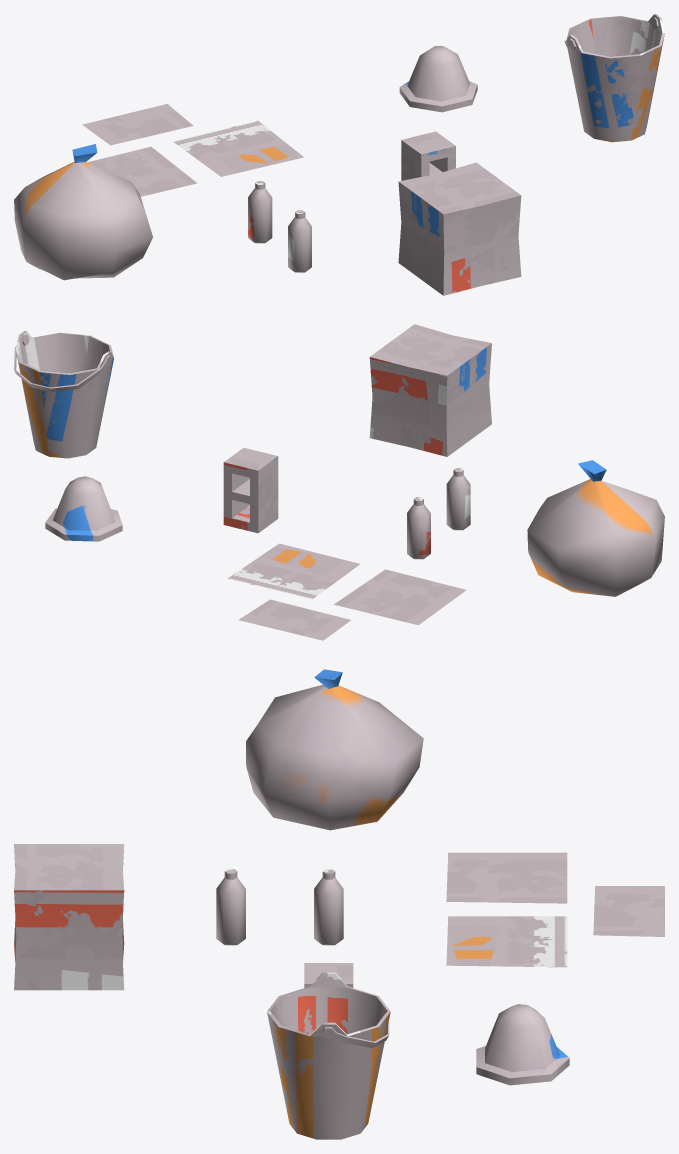
The model's file is garbages.fbx.
3 renders of one model, top to bottom at view 1: azimuth 30°, elevation 25°; view 2: azimuth 150°, elevation 25°; view 3: azimuth 270°, elevation 25°, orthographic. The views are drawn at different scales.
Parts seen in each view (by area): view 1: Cardboard_LOD0, Garbage_bag_LOD0, Bucket_LOD0, Cardboard_board_1, Conc_LOD0, Cardboard_board_2, Cardboard_board_3, Brick_LOD0, Bottle_2_LOD0, Bottle_1_LOD0; view 2: Cardboard_LOD0, Garbage_bag_LOD0, Bucket_LOD0, Brick_LOD0, Cardboard_board_2, Cardboard_board_1, Conc_LOD0, Cardboard_board_3, Bottle_1_LOD0, Bottle_2_LOD0; view 3: Garbage_bag_LOD0, Cardboard_LOD0, Bucket_LOD0, Cardboard_board_2, Cardboard_board_1, Conc_LOD0, Cardboard_board_3, Bottle_2_LOD0, Bottle_1_LOD0, Brick_LOD0.
Part boxes in pixels (left/top/right/bottom): Cardboard_LOD0: left=398, top=162, right=521, bottom=295; Garbage_bag_LOD0: left=14, top=144, right=152, bottom=280; Bucket_LOD0: left=564, top=14, right=664, bottom=142; Cardboard_board_1: left=173, top=120, right=303, bottom=176; Conc_LOD0: left=399, top=46, right=477, bottom=112; Cardboard_board_2: left=87, top=146, right=197, bottom=196; Cardboard_board_3: left=82, top=104, right=193, bottom=145; Brick_LOD0: left=401, top=131, right=455, bottom=180; Bottle_2_LOD0: left=248, top=181, right=272, bottom=243; Bottle_1_LOD0: left=288, top=210, right=311, bottom=272; Cardboard_LOD0: left=369, top=324, right=491, bottom=456; Garbage_bag_LOD0: left=527, top=460, right=664, bottom=596; Bucket_LOD0: left=14, top=331, right=113, bottom=458; Brick_LOD0: left=223, top=447, right=278, bottom=533; Cardboard_board_2: left=334, top=569, right=466, bottom=625; Cardboard_board_1: left=228, top=543, right=360, bottom=599; Conc_LOD0: left=45, top=476, right=122, bottom=541; Cardboard_board_3: left=239, top=599, right=350, bottom=640; Bottle_1_LOD0: left=446, top=468, right=470, bottom=530; Bottle_2_LOD0: left=407, top=497, right=430, bottom=559; Garbage_bag_LOD0: left=246, top=669, right=423, bottom=830; Cardboard_LOD0: left=14, top=844, right=124, bottom=990; Bucket_LOD0: left=267, top=972, right=390, bottom=1139; Cardboard_board_2: left=446, top=852, right=567, bottom=903; Cardboard_board_1: left=446, top=916, right=567, bottom=967; Conc_LOD0: left=476, top=1004, right=569, bottom=1085; Cardboard_board_3: left=593, top=886, right=664, bottom=936; Bottle_2_LOD0: left=314, top=869, right=343, bottom=945; Bottle_1_LOD0: left=216, top=869, right=245, bottom=945; Brick_LOD0: left=304, top=963, right=353, bottom=987.
Size of what is drawn, in the model's own units: 553 by 117 by 399.
